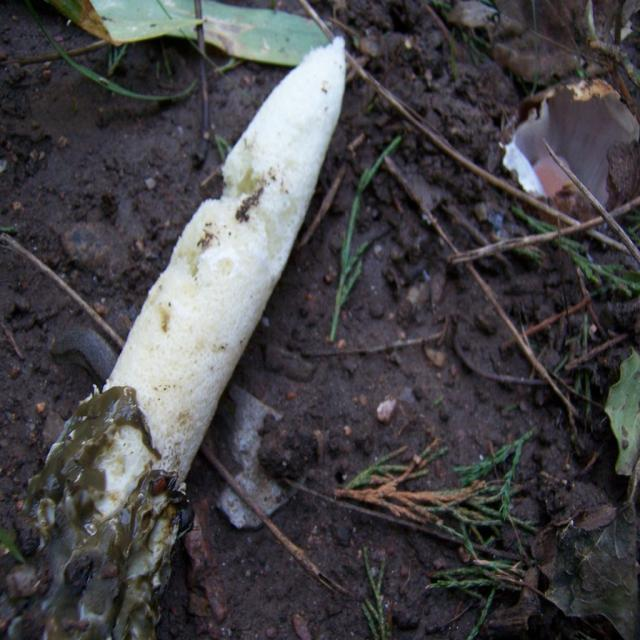Mushroom: (36, 17, 358, 640)
